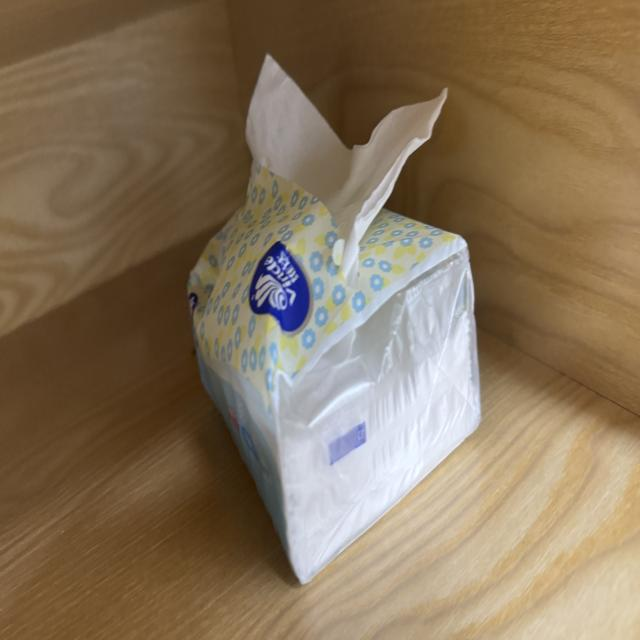tissue: (189, 57, 480, 582)
